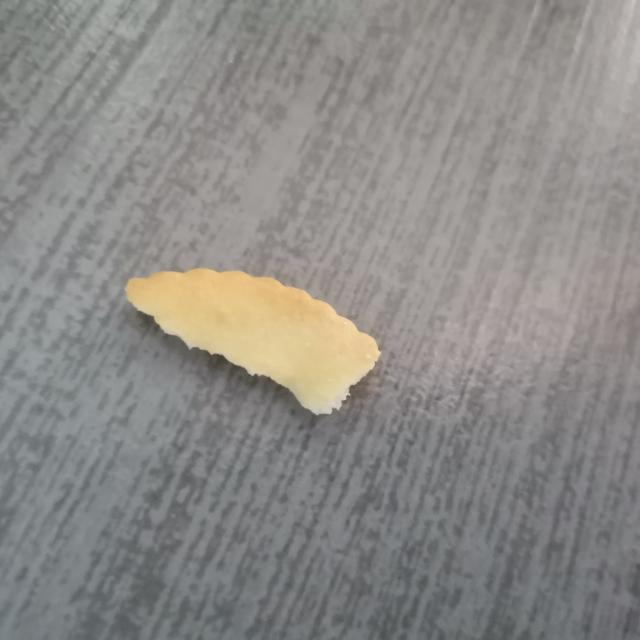Broken: (123, 266, 381, 417)
